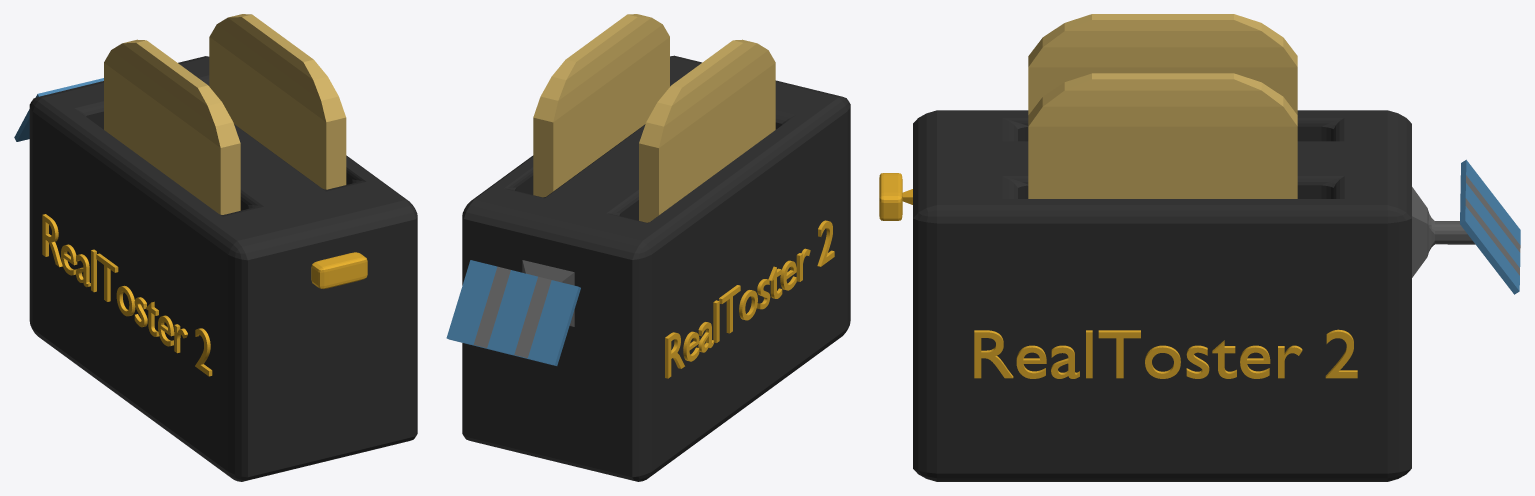
The model's file is Toaster.fbx.
3 renders of one model, left to right at view 1: azimuth 30°, elevation 25°; view 2: azimuth 150°, elevation 25°; view 3: azimuth 270°, elevation 25°, orthographic. The views are drawn at different scales.
Visible parts, largest first — view 1: Cube, Cube.001, Text.001, Cube.002, Cube.004; view 2: Cube, Cube.001, Cube.004, Text.001, Cube.003; view 3: Cube, Cube.001, Text, Cube.004, Cube.003, Cube.002.
Part boxes in pixels (x1=…): Cube: x1=29, y1=56, x2=417, y2=481; Cube.001: x1=104, y1=14, x2=346, y2=214; Text.001: x1=42, y1=214, x2=212, y2=376; Cube.002: x1=311, y1=252, x2=367, y2=288; Cube.004: x1=14, y1=78, x2=103, y2=141; Cube: x1=462, y1=55, x2=850, y2=481; Cube.001: x1=533, y1=14, x2=775, y2=222; Cube.004: x1=446, y1=260, x2=580, y2=365; Text.001: x1=665, y1=220, x2=834, y2=378; Cube.003: x1=522, y1=260, x2=574, y2=326; Cube: x1=913, y1=110, x2=1411, y2=481; Cube.001: x1=1028, y1=14, x2=1297, y2=198; Text: x1=974, y1=329, x2=1357, y2=378; Cube.004: x1=1460, y1=159, x2=1520, y2=294; Cube.003: x1=1412, y1=187, x2=1475, y2=277; Cube.002: x1=879, y1=173, x2=912, y2=220.
Size of the model in its own units: 143 by 238 by 356.
